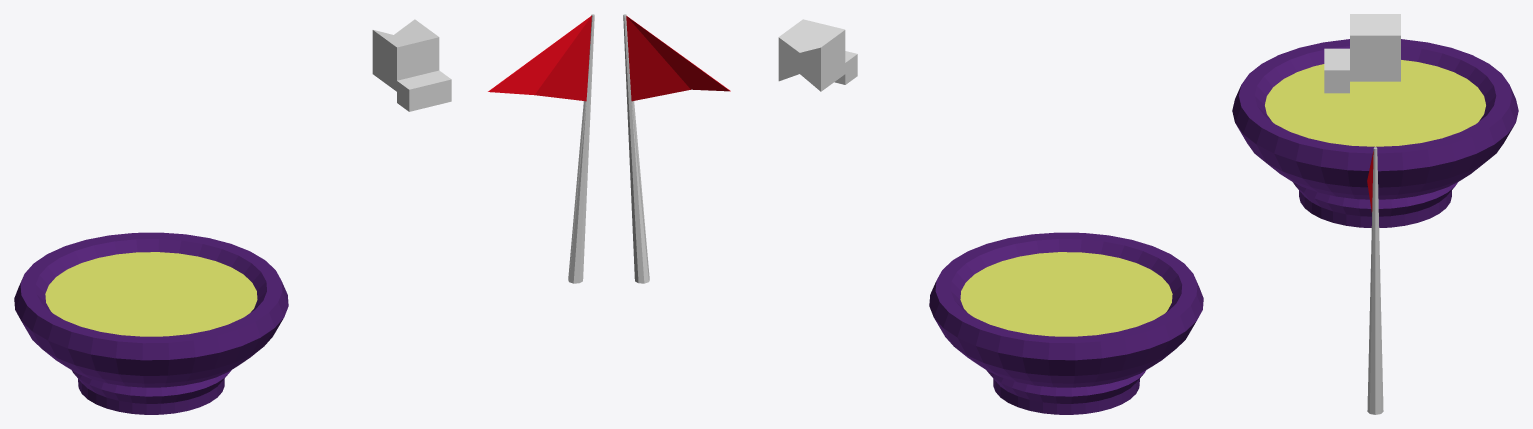
3 renders of one model, left to right at view 1: azimuth 30°, elevation 25°; view 2: azimuth 150°, elevation 25°; view 3: azimuth 270°, elevation 25°, orthographic. The views are drawn at different scales.
Visible parts, largest first — view 1: 02 Cauldron, 03 Flag, 01 Camera RotatingPart, 00 Camera WallMount; view 2: 02 Cauldron, 03 Flag, 01 Camera RotatingPart; view 3: 02 Cauldron, 01 Camera RotatingPart, 03 Flag, 00 Camera WallMount.
Part boxes in pixels (bbox=[...]): 02 Cauldron: bbox=[14, 232, 288, 414]; 03 Flag: bbox=[488, 14, 594, 283]; 01 Camera RotatingPart: bbox=[372, 19, 439, 91]; 00 Camera WallMount: bbox=[397, 70, 451, 111]; 02 Cauldron: bbox=[929, 232, 1203, 414]; 03 Flag: bbox=[623, 14, 730, 283]; 01 Camera RotatingPart: bbox=[778, 19, 845, 91]; 02 Cauldron: bbox=[1232, 39, 1518, 227]; 01 Camera RotatingPart: bbox=[1350, 14, 1400, 81]; 03 Flag: bbox=[1367, 147, 1383, 414]; 00 Camera WallMount: bbox=[1324, 48, 1349, 93].
Size of the model in its own units: 6.63 by 3.25 by 2.81.
